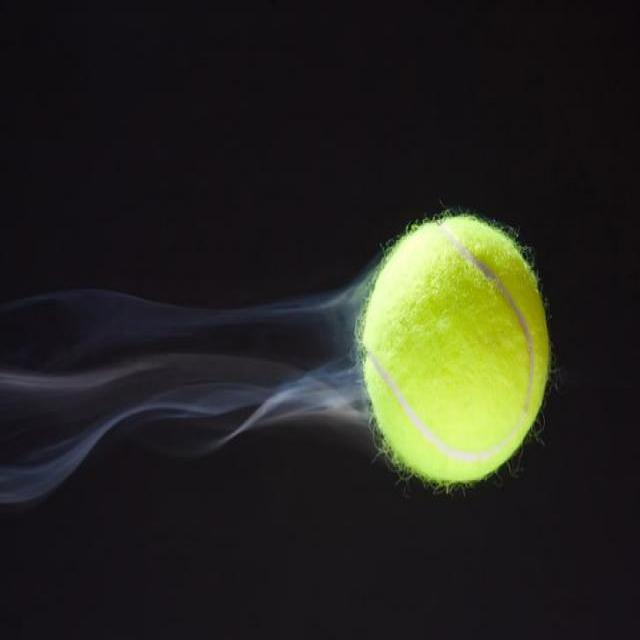tennis-ball: (360, 213, 552, 481)
